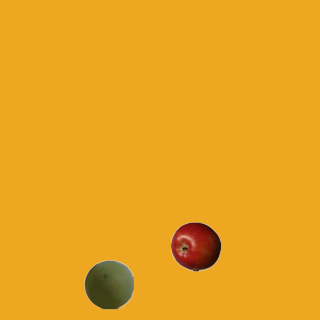Apple Braeburn: (170, 221, 220, 271)
Grape White 4: (83, 259, 133, 309)
